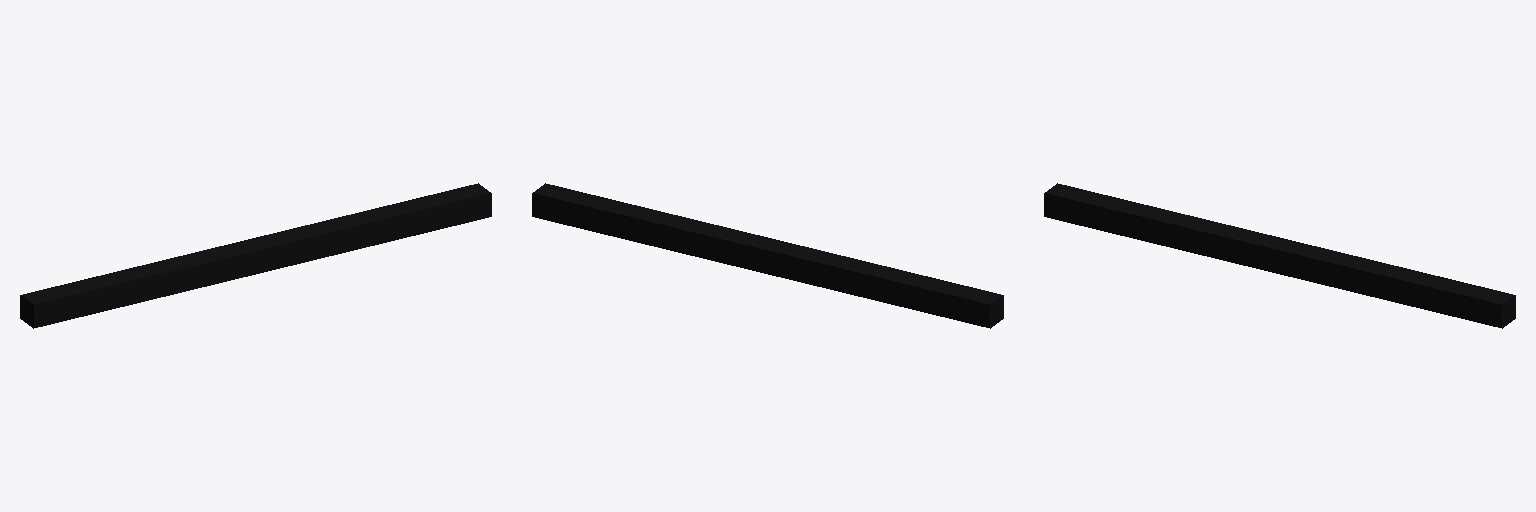
robot.urdf — sidewall:
<?xml version="1.0"?> 
<robot name="sidewall">
    <!-- Colors --> 
    <material name="gray"> 
        <color rgba="0.1 0.1 0.1 1"/>
    </material>

    <!-- Base Frame of Sidewall --> 
    <link name="base_link">
        <visual>
            <geometry> 
                <box size="5.0 0.25 0.25"/>
            </geometry>
            <material name="gray"/>
        </visual>
        <collision>
            <geometry>
                <box size="5.0 0.25 0.25"/>
            </geometry>
      </collision>
      <inertial>
            <mass value="100.0" />
            <inertia  ixx="1.0" ixy="0.0"  ixz="0.0"  iyy="1.0"  iyz="0.0"  izz="1.0" />
        </inertial>
    </link>
</robot>

--- Render facts (derived) ---
3 views of the same robot in one strip: view 1: azimuth 30°, elevation 25°; view 2: azimuth 150°, elevation 25°; view 3: azimuth 330°, elevation 25° (orthographic).
Robot: sidewall — 1 links, 0 joints (none); root link base_link; default pose: all joints at 0.
Visible links, largest first — view 1: base_link; view 2: base_link; view 3: base_link.
Boxes of the visible links, <box> form: base_link: <box>20,183,491,328</box>; base_link: <box>532,183,1003,328</box>; base_link: <box>1044,183,1515,328</box>.
Bounding box of the posed robot: 5 × 0.25 × 0.25 m (x, y, z).
Geometry: primitives only (box / cylinder / sphere), no mesh files.
